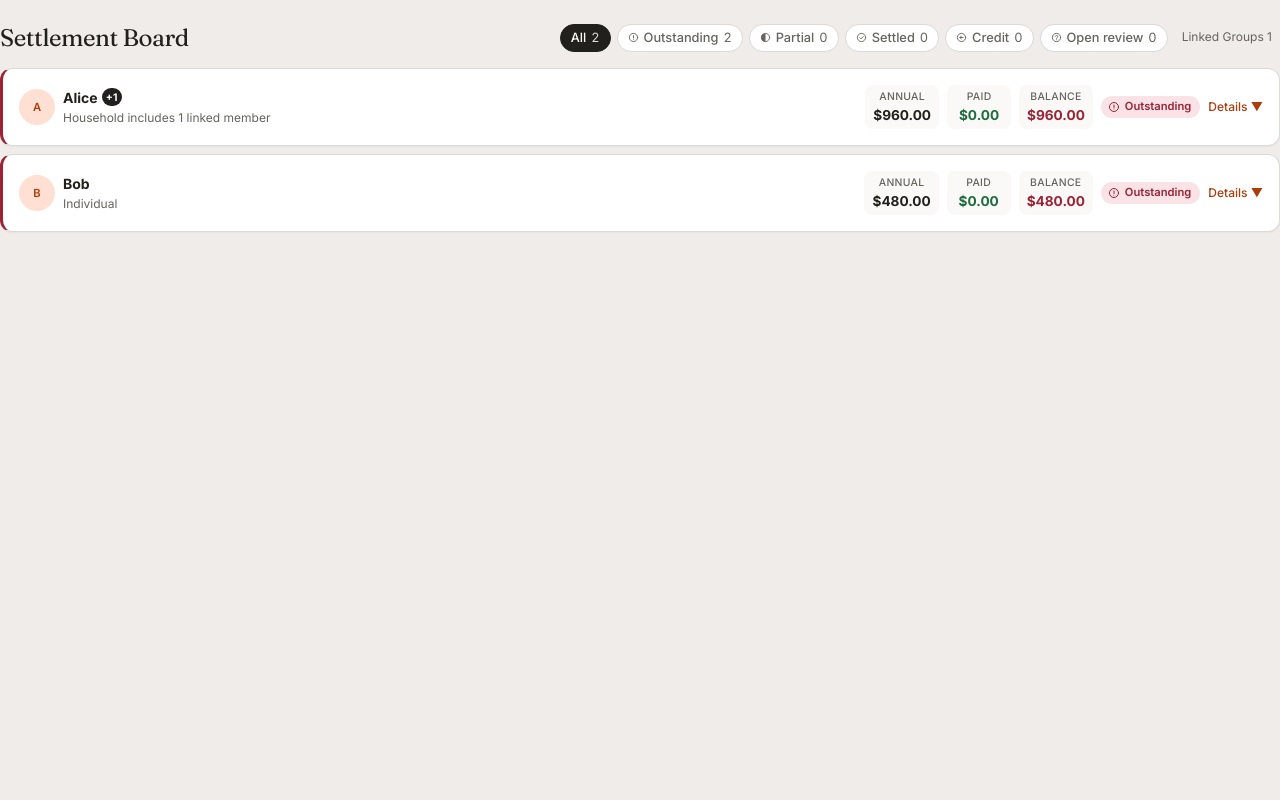
Test case: SettlementBoard › opens payment dialog on Record Payment click
Click the text "Alice".
click(37, 107)  # box [19,85,1263,129]
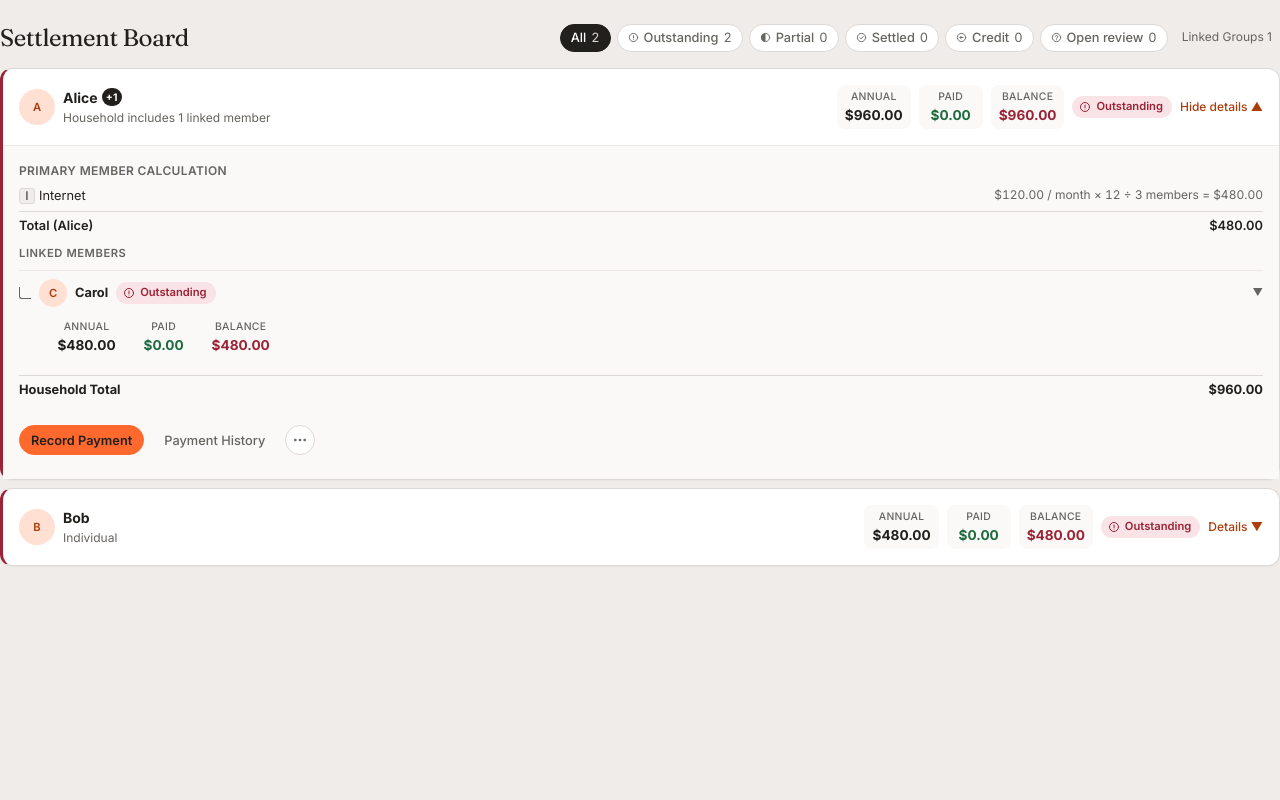
Click the button "Record Payment".
click(82, 440)  # box [19,425,144,455]
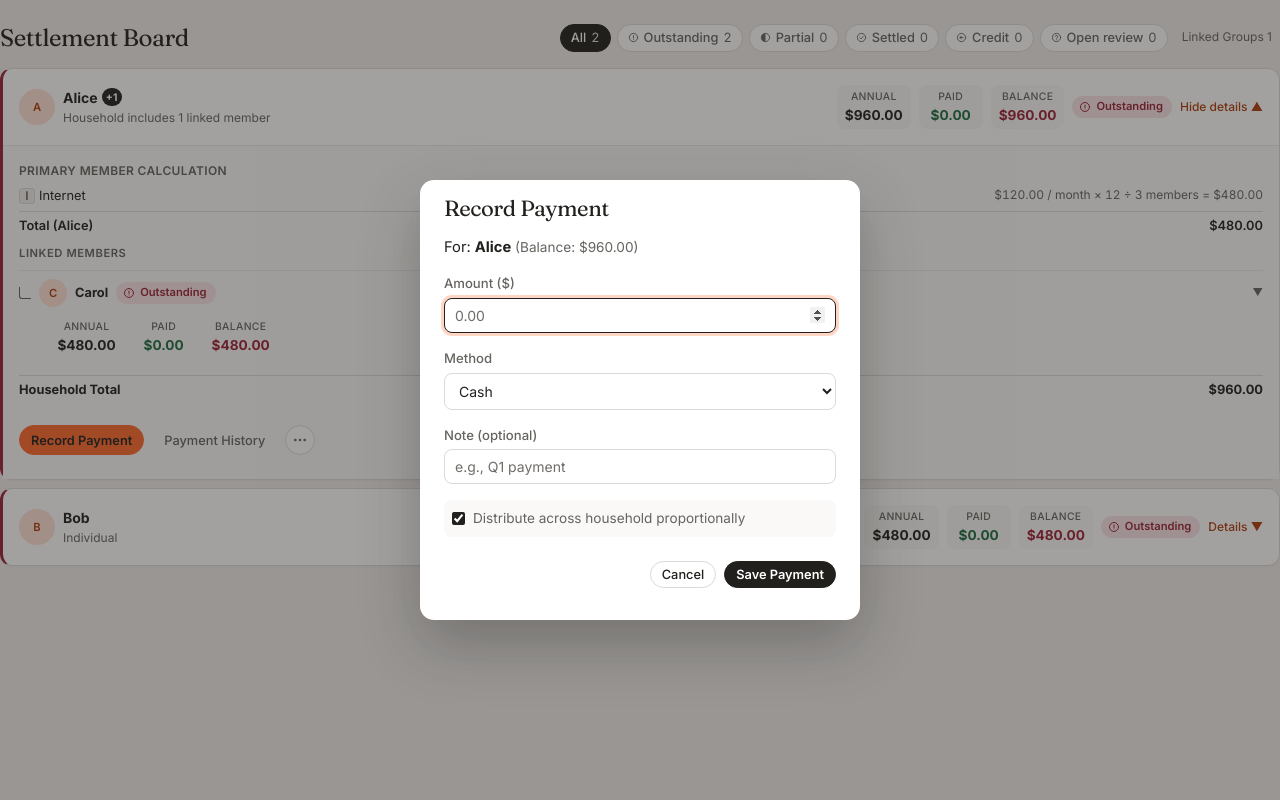
Expected: the text "For: Alice (Balance: $960.00)" is shown, [444,238,638,256]
Expected: the button "Save Payment" is shown, [724,561,836,588]
